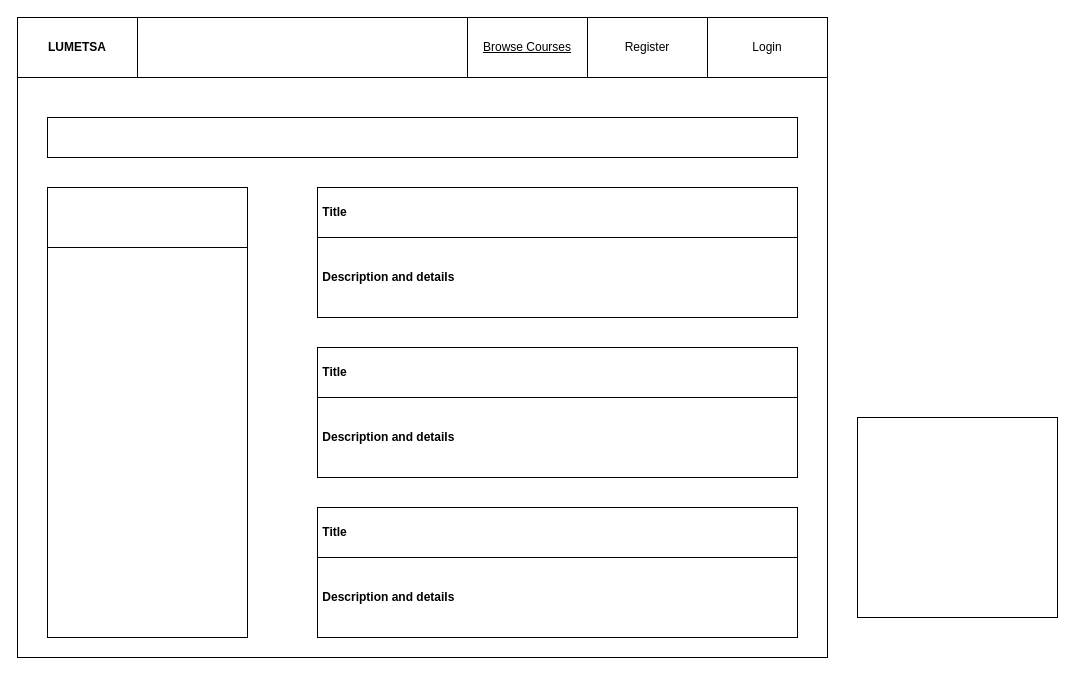
Image size: 1075x675. Some labels were removed from this diagram. Each missing label, with the centre of its shape:
Filters: the point at 147,217
Search course: the point at 422,137
